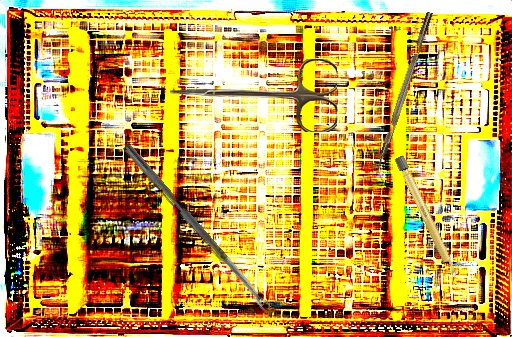Chopper: (369, 11, 442, 183)
Iris Scissors: (170, 59, 337, 132)
Scalpel Handle: (393, 154, 461, 282)
Surgical Spoon: (121, 142, 272, 314)
